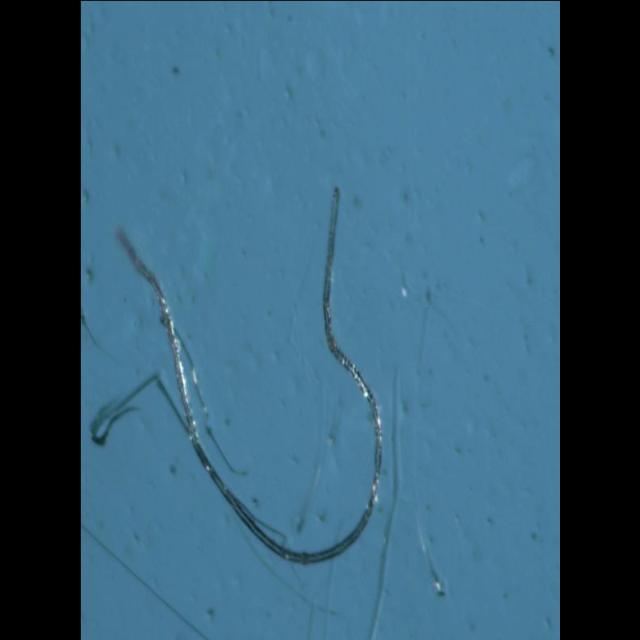Fibre: (89, 183, 383, 565)
